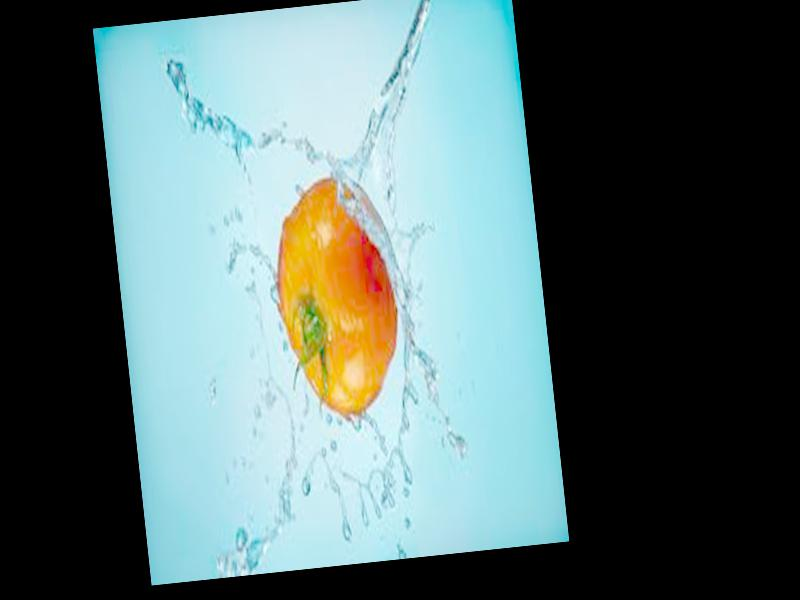Tomato: (267, 172, 410, 424)
